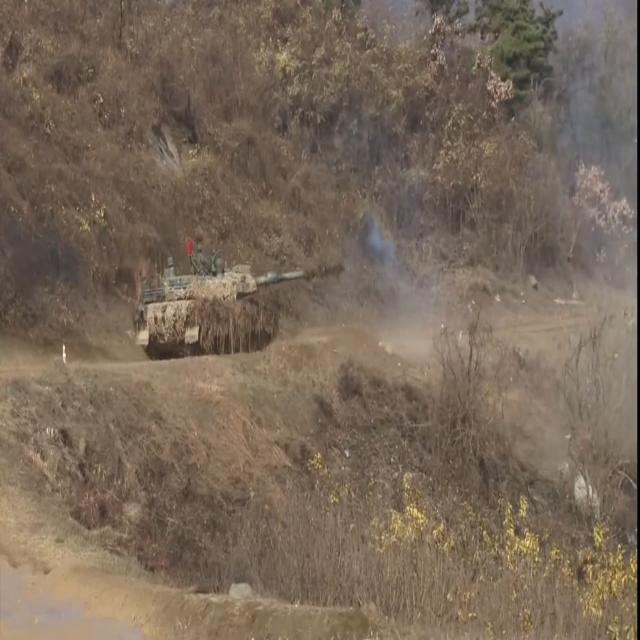korea tank: (132, 236, 346, 362)
